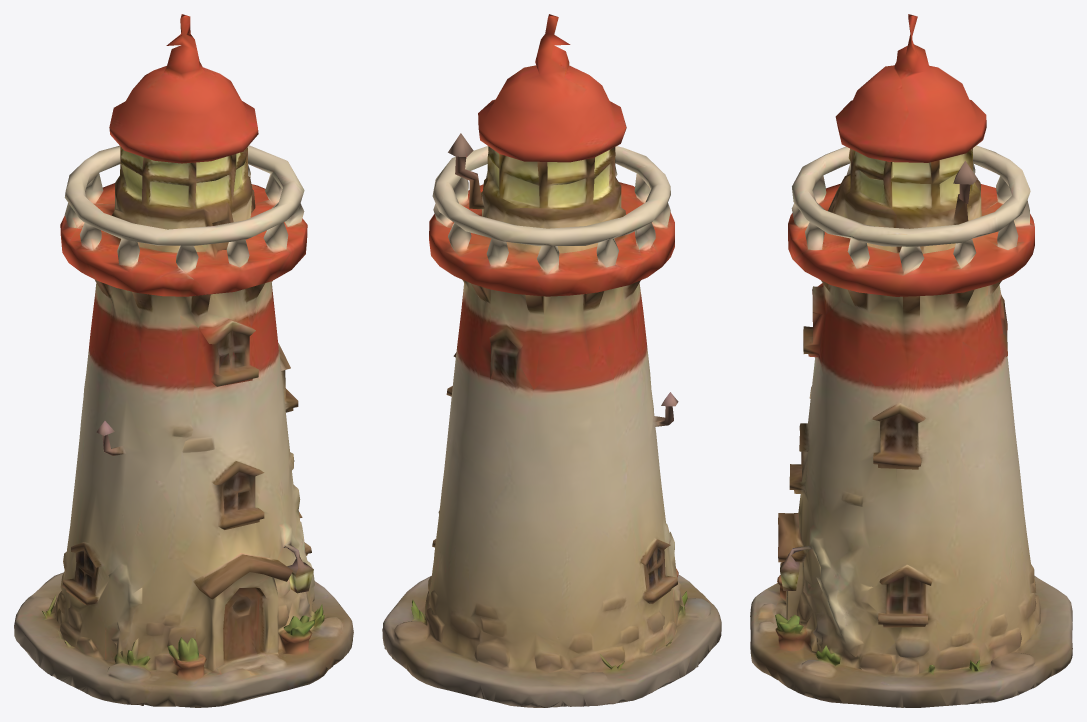
The model's file is prop_lighthouse.glb.
3 renders of one model, left to right at view 1: azimuth 30°, elevation 25°; view 2: azimuth 150°, elevation 25°; view 3: azimuth 270°, elevation 25°, orthographic.
Visible parts, largest first — view 1: tripo_node_c36c3d48-2f8e-424e-acc2-f7a93f92c2ec; view 2: tripo_node_c36c3d48-2f8e-424e-acc2-f7a93f92c2ec; view 3: tripo_node_c36c3d48-2f8e-424e-acc2-f7a93f92c2ec.
Boxes of the visible parts, left/top/right/bottom form: tripo_node_c36c3d48-2f8e-424e-acc2-f7a93f92c2ec: left=14, top=14, right=353, bottom=707; tripo_node_c36c3d48-2f8e-424e-acc2-f7a93f92c2ec: left=382, top=14, right=721, bottom=707; tripo_node_c36c3d48-2f8e-424e-acc2-f7a93f92c2ec: left=750, top=14, right=1072, bottom=707.
Bounding box in the file's own units: 0.47 × 1 × 0.4681.
Materials: 1 (1 with a texture image).
